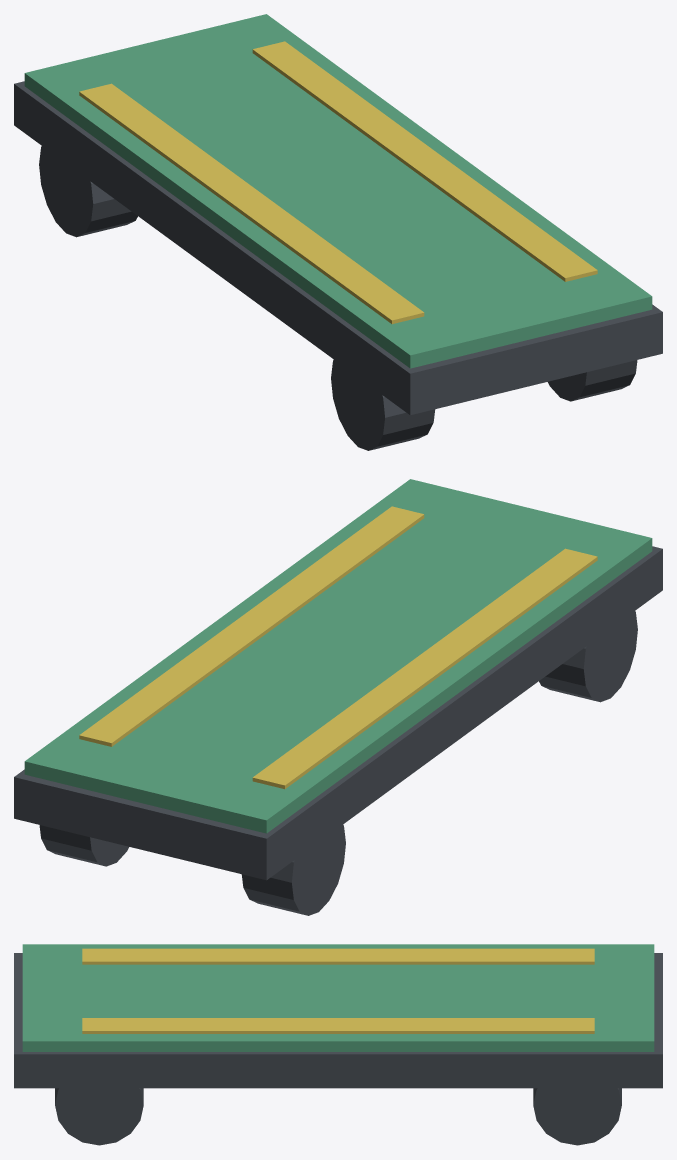
File: kasi_cruiser.glb
The picture shows the model from 3 angles, top to bottom: view 1: azimuth 30°, elevation 25°; view 2: azimuth 150°, elevation 25°; view 3: azimuth 270°, elevation 25°; orthographic projection. The views are drawn at different scales.
Visible parts, largest first — view 1: part_1, part_0, part_8, part_9, part_3, part_2, part_5; view 2: part_1, part_0, part_8, part_9, part_3, part_2, part_4; view 3: part_1, part_0, part_8, part_9, part_5, part_4.
Part boxes in pixels (x1,y1,x2,y2): part_1: (24,14,652,368); part_0: (14,81,662,415); part_8: (79,83,424,324); part_9: (252,41,597,281); part_3: (331,345,435,450); part_2: (39,131,137,237); part_5: (548,360,637,401); part_1: (24,479,652,833); part_0: (14,546,662,880); part_8: (252,548,597,789); part_9: (79,506,424,746); part_3: (539,596,637,702); part_2: (241,810,345,915); part_4: (39,825,128,866); part_1: (22,944,654,1051); part_0: (14,953,662,1088); part_8: (82,948,594,964); part_9: (82,1018,594,1033); part_5: (55,1065,143,1145); part_4: (533,1065,621,1145).
Size of the model in its own units: 0.7 by 0.34 by 1.9.
